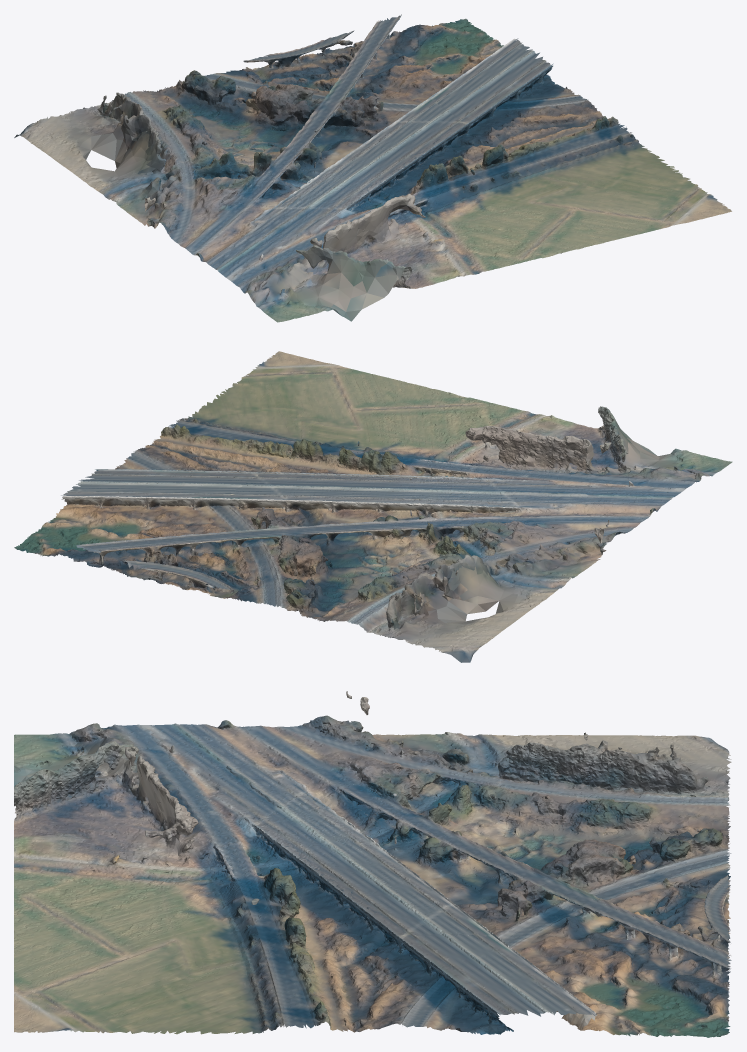
File: EnvAsset_009_Tile_01.obj
The picture shows the model from 3 angles, top to bottom: view 1: azimuth 30°, elevation 25°; view 2: azimuth 150°, elevation 25°; view 3: azimuth 270°, elevation 25°; orthographic projection. The views are drawn at different scales.
Size of the model in its own units: 347 by 44.24 by 351.
1 material, 1 textured.
